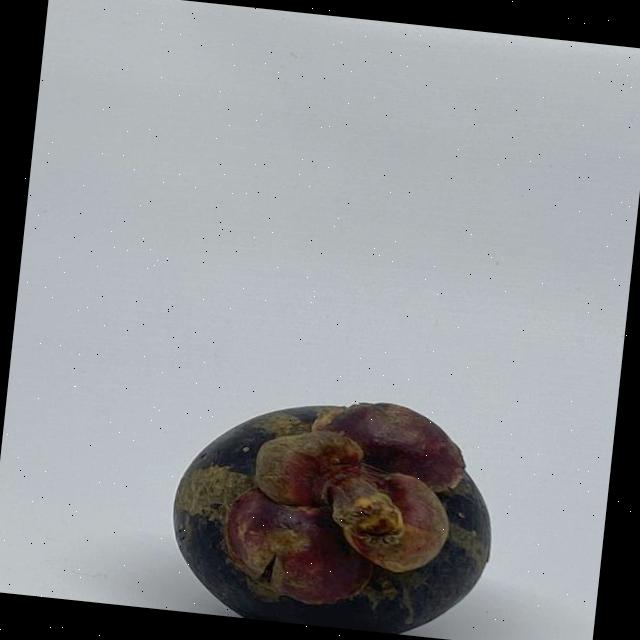mangosteen: (146, 354, 510, 640)
